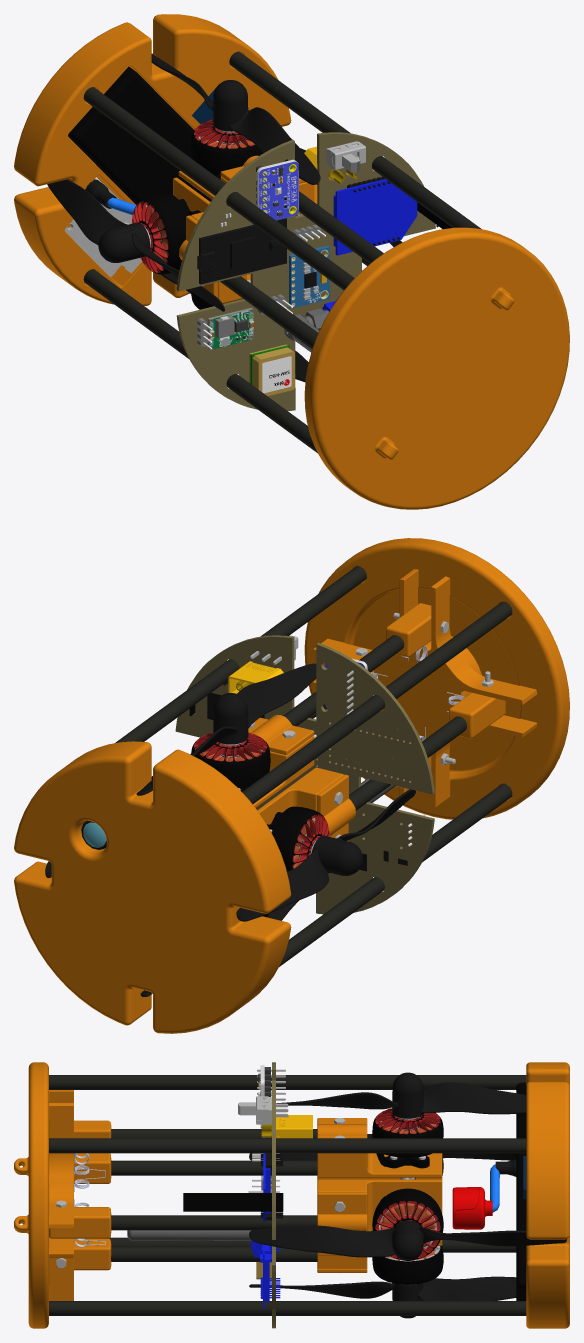
3 renders of one model, top to bottom at view 1: azimuth 30°, elevation 25°; view 2: azimuth 150°, elevation 25°; view 3: azimuth 270°, elevation 25°, orthographic. The views are drawn at different scales.
Size of the model in its own units: 107 by 107 by 222.
